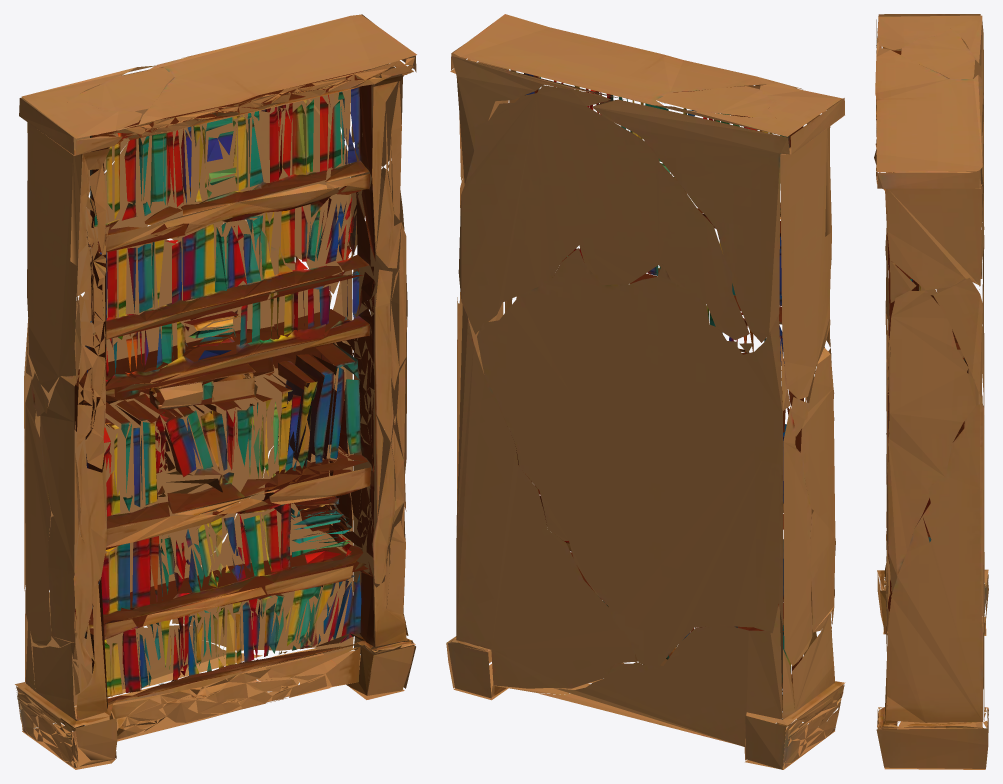
File: bookshelf.glb
3 renders of one model, left to right at view 1: azimuth 30°, elevation 25°; view 2: azimuth 150°, elevation 25°; view 3: azimuth 270°, elevation 25°, orthographic. The views are drawn at different scales.
Visible parts, largest first — view 1: material; view 2: material; view 3: material.
Part boxes in pixels (x1,y1,x2,y2): material: [15, 14, 416, 769]; material: [446, 14, 845, 769]; material: [874, 14, 988, 769].
Size of the model in its own units: 0.5187 by 0.92 by 0.1589.
1 material, 1 textured.
